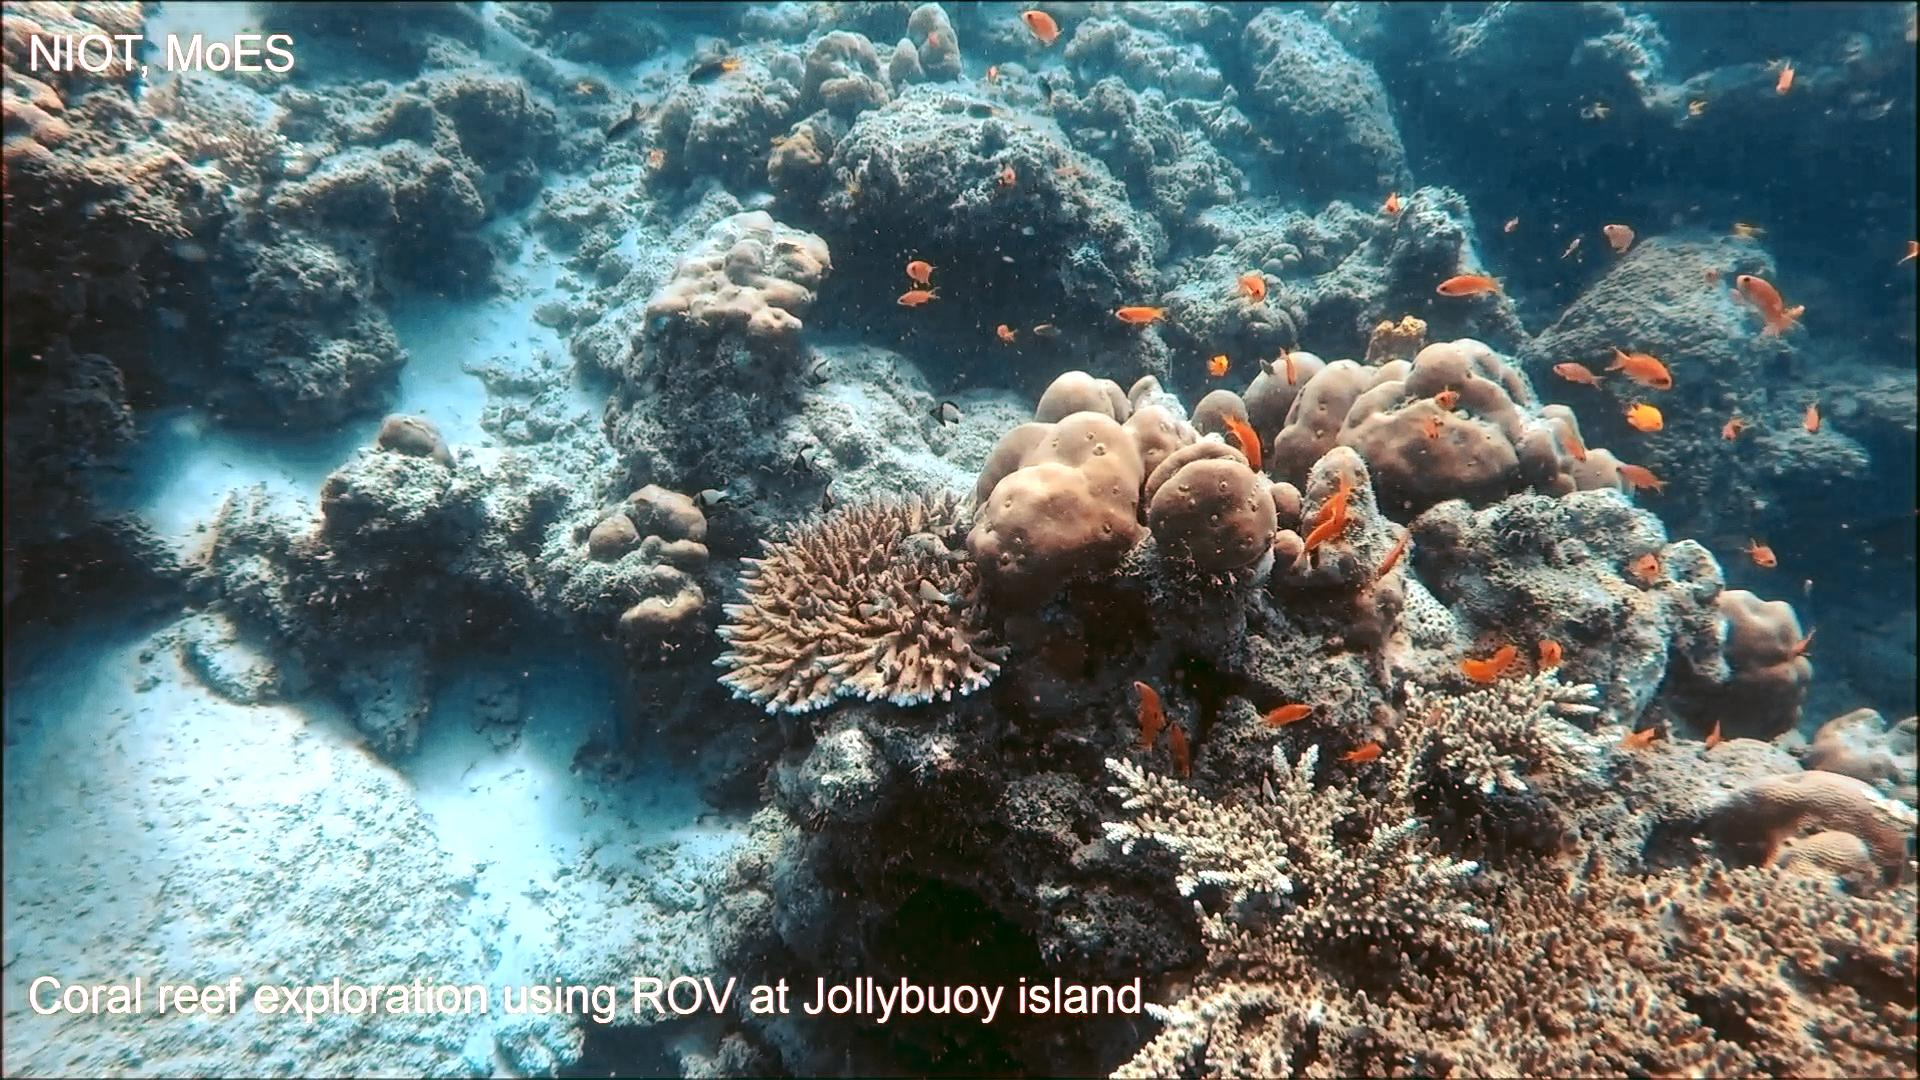Porites-Porites pukoensis: (960, 368, 1287, 617), (1220, 328, 1640, 520)
